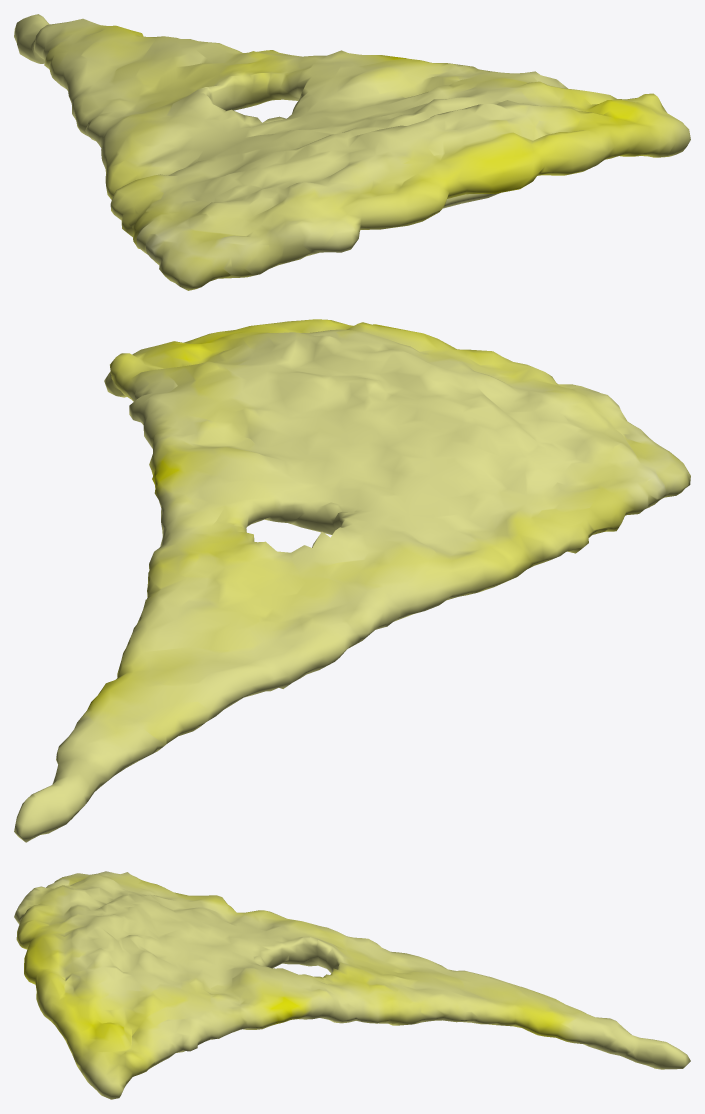
3 renders of one model, top to bottom at view 1: azimuth 30°, elevation 25°; view 2: azimuth 150°, elevation 25°; view 3: azimuth 270°, elevation 25°, orthographic. The views are drawn at different scales.
Parts seen in each view (by area): view 1: LOD 0_12822544702743451033_820756dedd5b3434c8e6bed8ae6a193b; view 2: LOD 0_12822544702743451033_820756dedd5b3434c8e6bed8ae6a193b; view 3: LOD 0_12822544702743451033_820756dedd5b3434c8e6bed8ae6a193b.
Part boxes in pixels (bbox=[...]): LOD 0_12822544702743451033_820756dedd5b3434c8e6bed8ae6a193b: bbox=[14, 14, 690, 290]; LOD 0_12822544702743451033_820756dedd5b3434c8e6bed8ae6a193b: bbox=[14, 319, 690, 842]; LOD 0_12822544702743451033_820756dedd5b3434c8e6bed8ae6a193b: bbox=[14, 871, 690, 1099].
Bounding box in the file's own units: 3.1 × 1.07 × 4.35.
